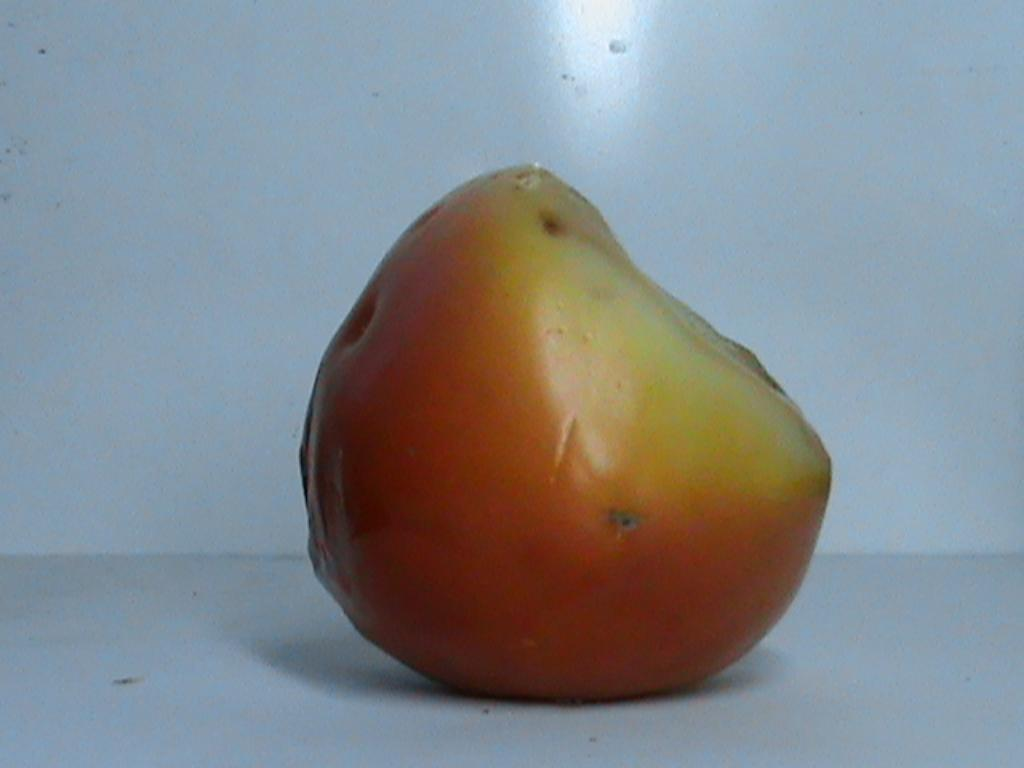bruise_discoloration: (501, 168, 829, 514)
rot_mold_decay: (608, 512, 640, 531)
tomato: (299, 166, 829, 698)
